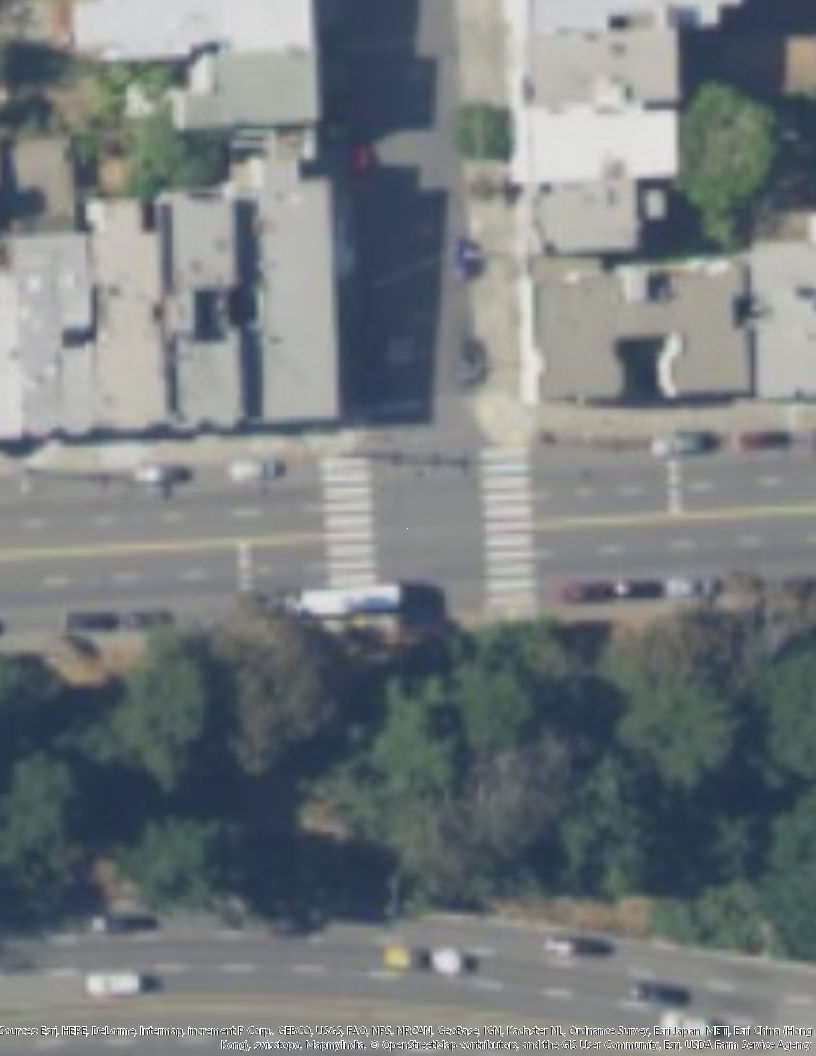zebracross: (476, 444, 540, 612), (323, 455, 379, 585)
